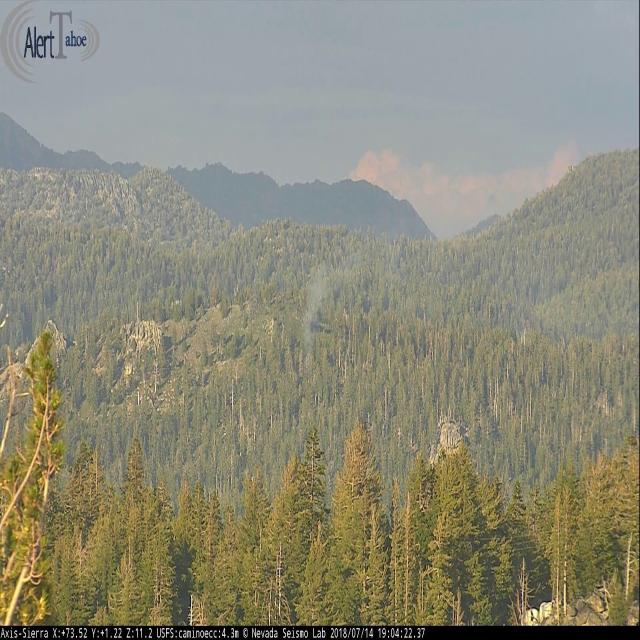smoke: (298, 218, 412, 364)
